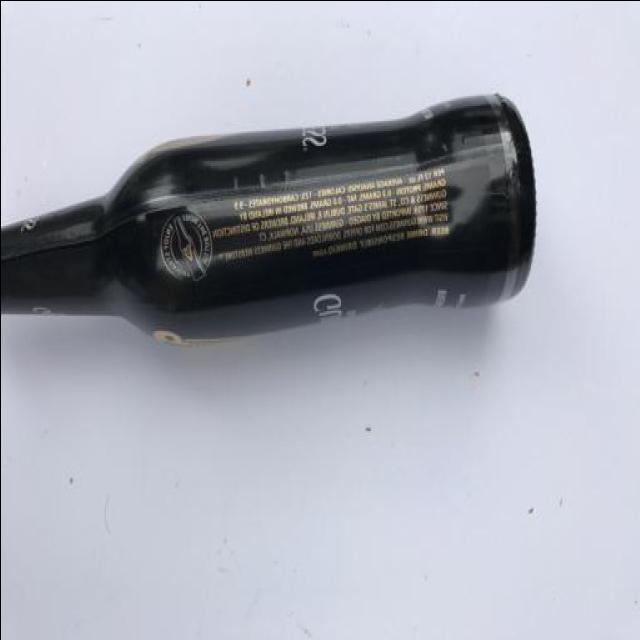glass: (0, 90, 534, 347)
